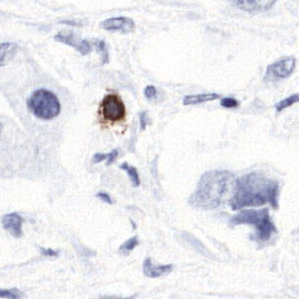Lymphocyte: (99, 92, 128, 124)
